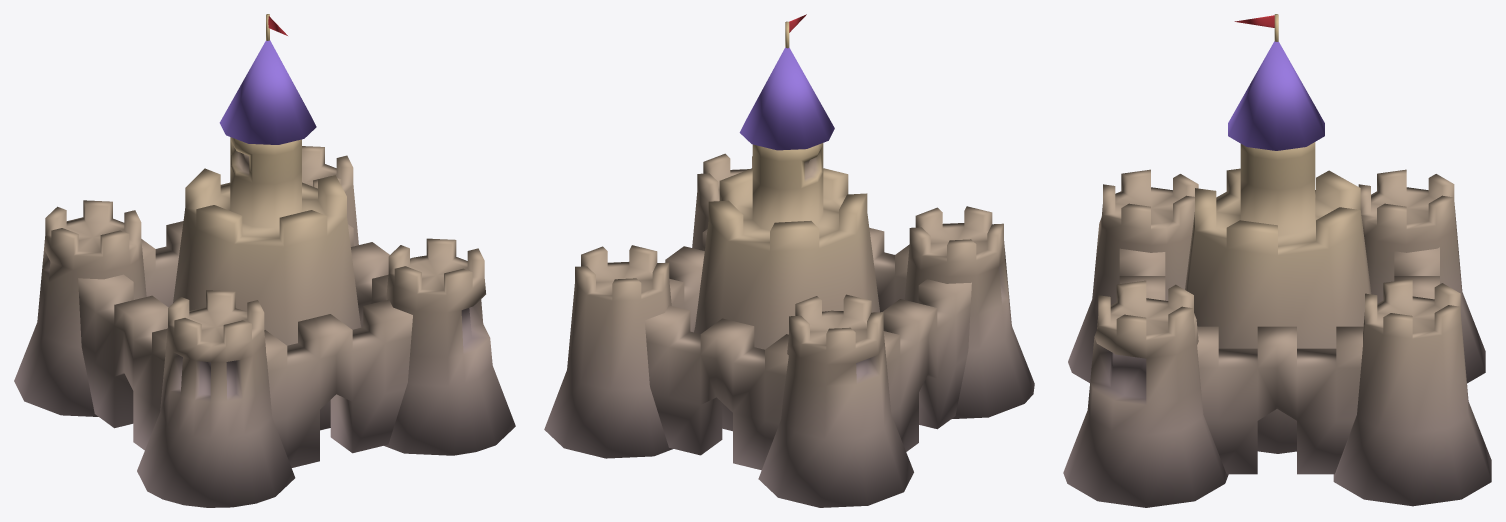
The model's file is Sand_Castle.fbx.
The picture shows the model from 3 angles, left to right: view 1: azimuth 30°, elevation 25°; view 2: azimuth 150°, elevation 25°; view 3: azimuth 270°, elevation 25°; orthographic projection. The views are drawn at different scales.
Parts seen in each view (by area): view 1: SandCastle; view 2: SandCastle; view 3: SandCastle.
Boxes of the visible parts, left/top/right/bottom form: SandCastle: left=14, top=14, right=515, bottom=507; SandCastle: left=544, top=14, right=1034, bottom=507; SandCastle: left=1063, top=14, right=1491, bottom=507.
Size of the model in its own units: 852 by 886 by 852.
